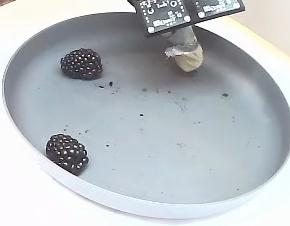berry: (46, 134, 87, 175), (60, 48, 102, 79)
